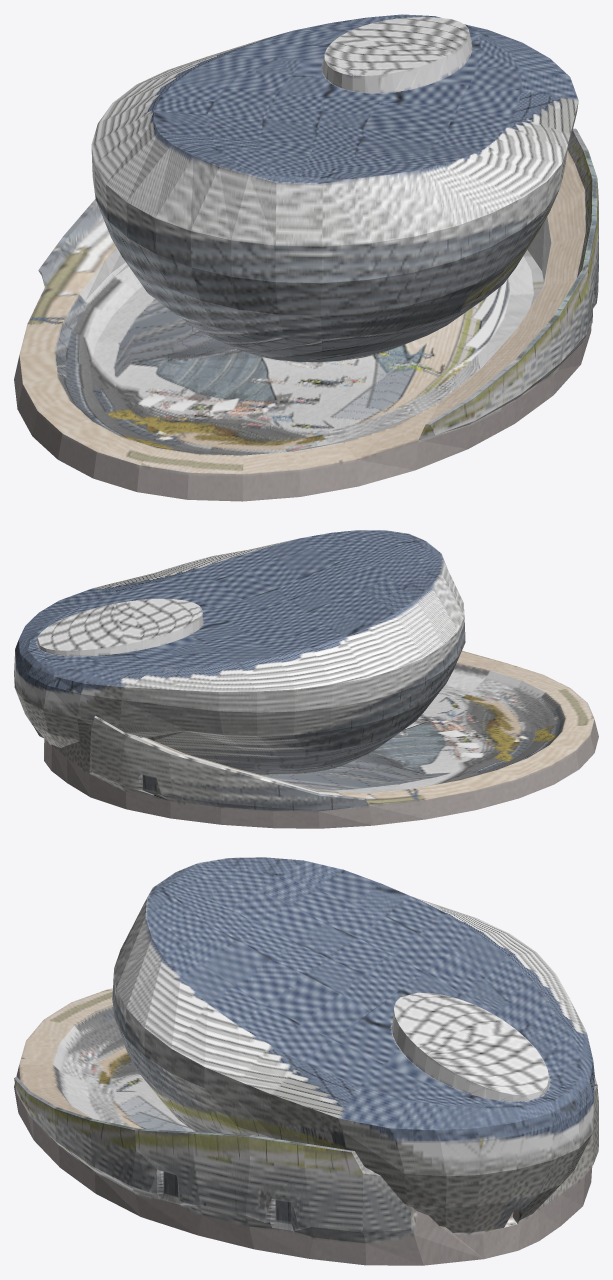
File: ICJ00010.glb
The picture shows the model from 3 angles, top to bottom: view 1: azimuth 30°, elevation 25°; view 2: azimuth 150°, elevation 25°; view 3: azimuth 270°, elevation 25°; orthographic projection. The views are drawn at different scales.
Visible parts, largest first — view 1: MainBuilding; view 2: MainBuilding; view 3: MainBuilding.
Part boxes in pixels (left/top/right/bottom): MainBuilding: left=14, top=14, right=598, bottom=501; MainBuilding: left=14, top=530, right=598, bottom=828; MainBuilding: left=14, top=857, right=598, bottom=1265.
Size of the model in its own units: 109 by 39.96 by 96.43.
1 material, 1 textured.
